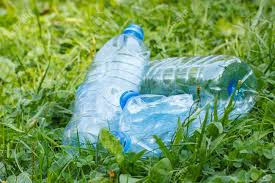bottle: (66, 25, 148, 145), (141, 51, 259, 118), (118, 90, 204, 146)
plastic: (66, 23, 256, 149)
